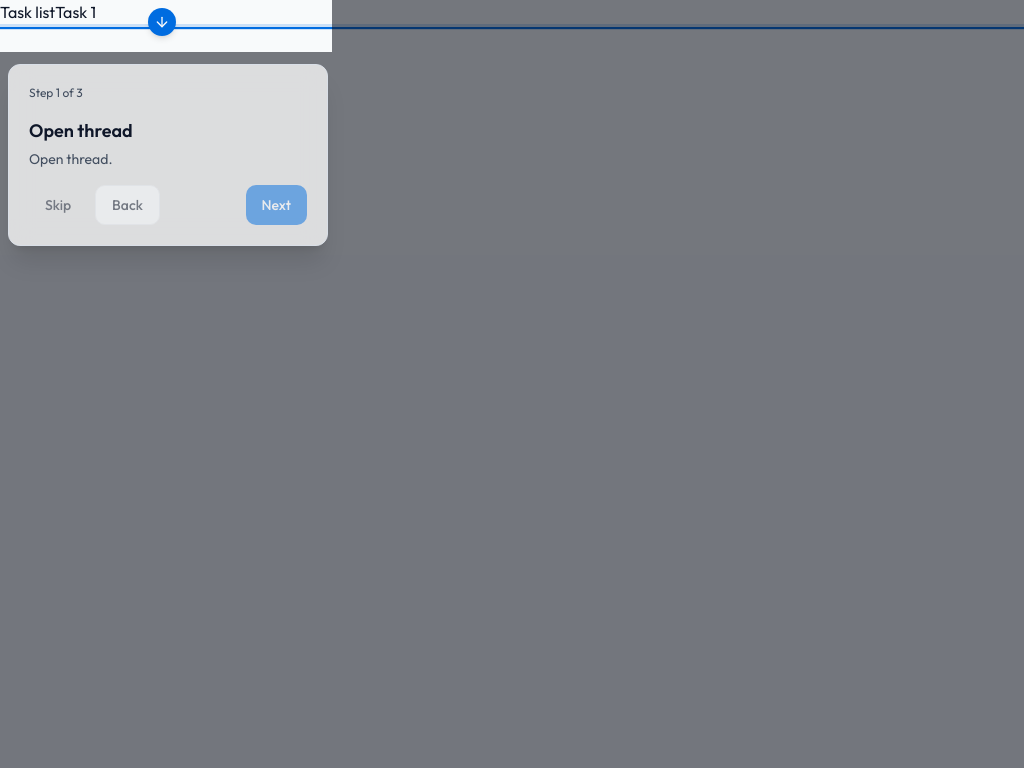
Test: OnboardingGuide breadcrumb transitions › auto-focuses the first task when breadcrumb target is unavailable
Click the text "Task list".
click(512, 12)  # box [0,0,1023,24]
Wait 800 ms
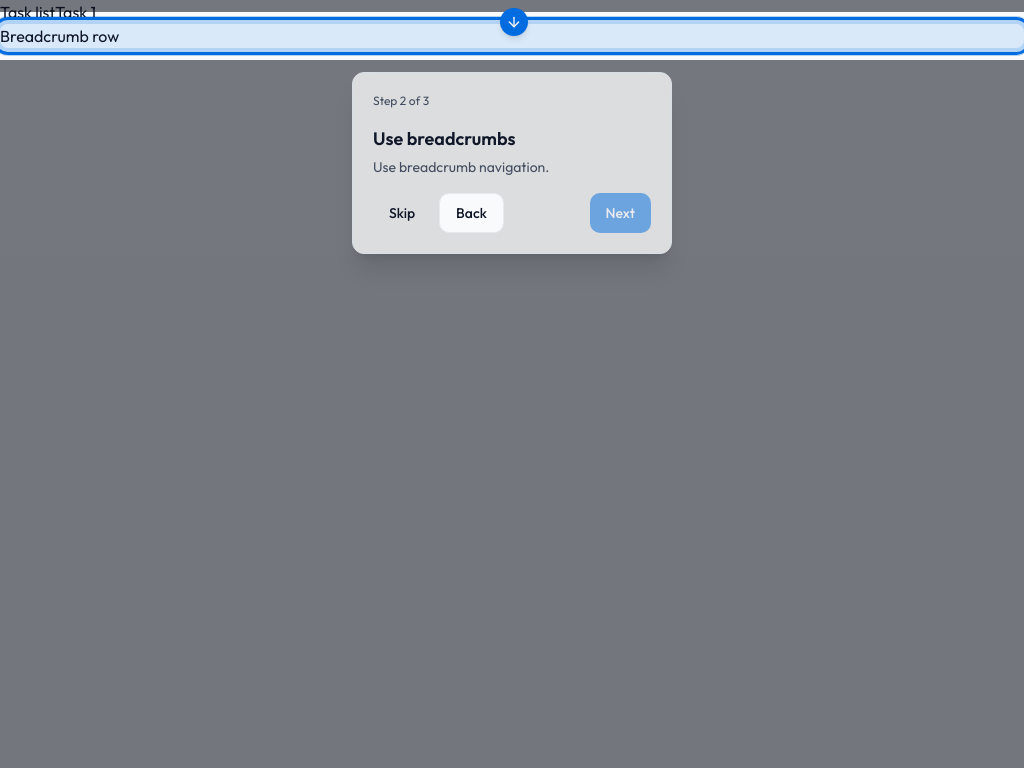
Check: the dialog with test id "onboarding-guide-dialog" is shown, box [352,72,672,254]
Check: the heading "Use breadcrumbs" is shown, box [373,127,516,150]
Check: the text "Breadcrumb row" is shown, box [0,24,1023,48]
